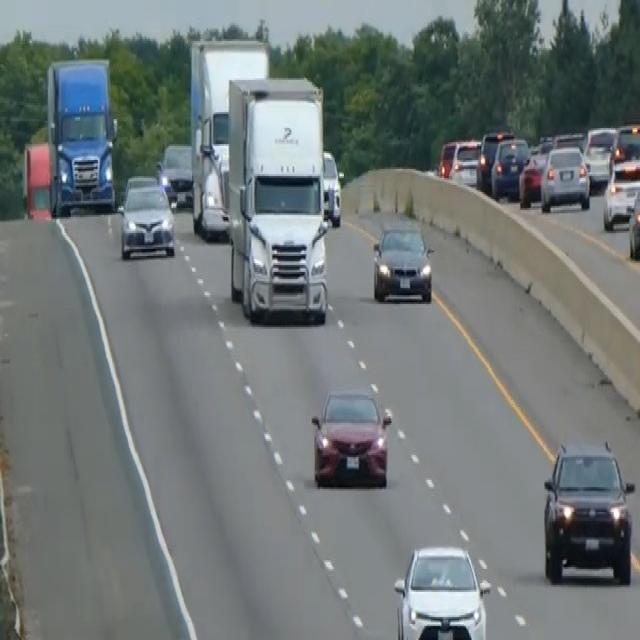car: (541, 435, 635, 585), (392, 540, 491, 638), (309, 386, 393, 489), (371, 220, 433, 304), (117, 174, 175, 260), (539, 142, 591, 212), (489, 135, 530, 199), (476, 126, 513, 192), (518, 137, 553, 206), (158, 140, 193, 208), (582, 124, 617, 188), (438, 135, 481, 185), (321, 147, 342, 225), (627, 178, 639, 260)
lorry: (225, 73, 329, 325), (45, 55, 118, 215)
